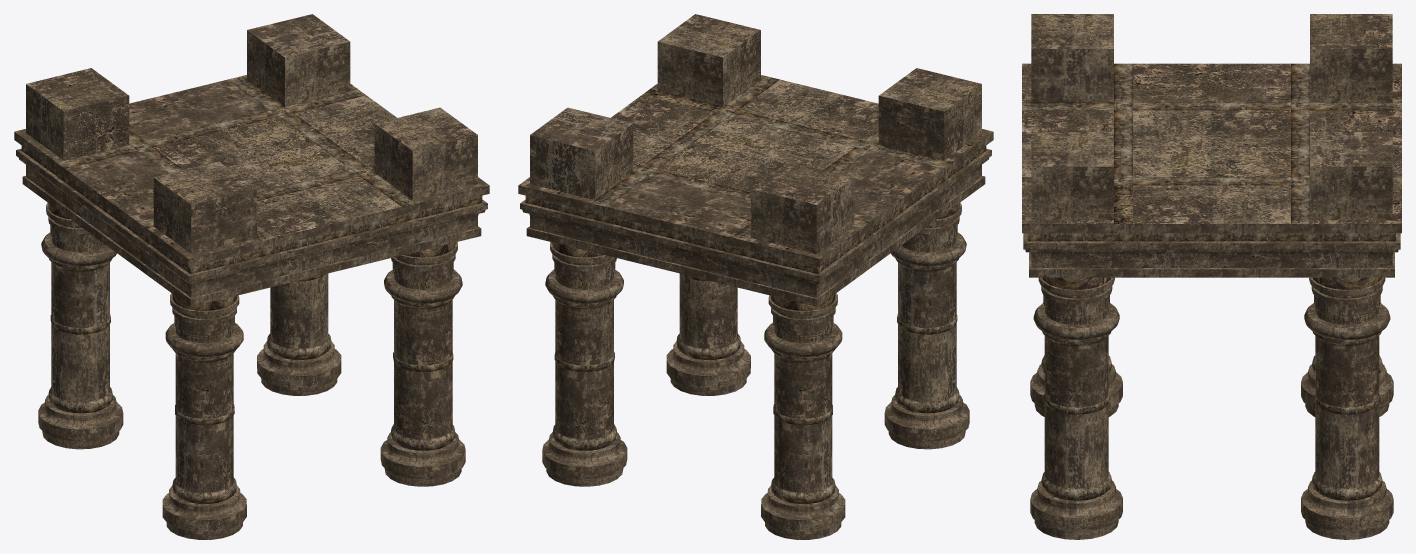
Rendered from materials_5_building_36.fbx.
3 renders of one model, left to right at view 1: azimuth 30°, elevation 25°; view 2: azimuth 150°, elevation 25°; view 3: azimuth 270°, elevation 25°, orthographic. The views are drawn at different scales.
Visible parts, largest first — view 1: materials_5_building_36; view 2: materials_5_building_36; view 3: materials_5_building_36.
Boxes of the visible parts, left/top/right/bottom form: materials_5_building_36: left=14, top=14, right=489, bottom=539; materials_5_building_36: left=518, top=14, right=993, bottom=539; materials_5_building_36: left=1022, top=14, right=1401, bottom=539.
Bounding box in the file's own units: 631 × 684 × 631.
